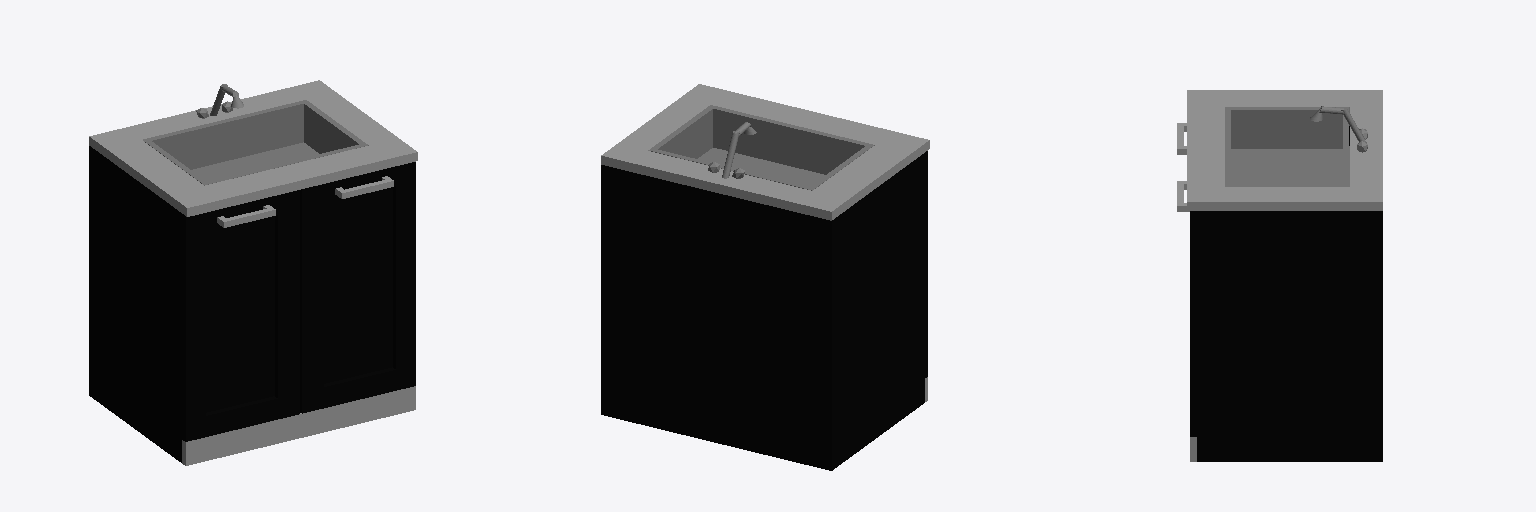
The model's file is cabinetWithBasin.obj.
3 renders of one model, left to right at view 1: azimuth 30°, elevation 25°; view 2: azimuth 150°, elevation 25°; view 3: azimuth 270°, elevation 25°, orthographic.
Parts seen in each view (by area): view 1: Cube_Cube.000, Cube.001_Cube.000, Cube.007, Cube.003_Cube.000, Cube.006_Cube, Cube.002_Cube.000, Cube.005_Cube.000; view 2: Cube.007, Cube_Cube.000, Cube.003_Cube.000, Cube.006_Cube, Cube.001_Cube.000; view 3: Cube.007, Cube.003_Cube.000, Cube_Cube.000, Cube.006_Cube, Cube.001_Cube.000.
Boxes of the visible parts, <box> form: Cube_Cube.000: <box>89,179,392,462</box>; Cube.001_Cube.000: <box>182,162,415,441</box>; Cube.007: <box>89,146,392,421</box>; Cube.003_Cube.000: <box>89,80,417,216</box>; Cube.006_Cube: <box>143,100,368,185</box>; Cube.002_Cube.000: <box>182,386,415,465</box>; Cube.005_Cube.000: <box>227,180,387,226</box>; Cube.007: <box>601,153,924,440</box>; Cube_Cube.000: <box>601,186,924,470</box>; Cube.003_Cube.000: <box>601,84,929,220</box>; Cube.006_Cube: <box>648,105,874,190</box>; Cube.001_Cube.000: <box>925,151,927,377</box>; Cube.007: <box>1197,126,1382,430</box>; Cube.003_Cube.000: <box>1187,90,1382,210</box>; Cube_Cube.000: <box>1197,140,1382,461</box>; Cube.006_Cube: <box>1225,107,1349,186</box>; Cube.001_Cube.000: <box>1190,211,1196,436</box>.
Bounding box in the file's own units: 80 × 99.04 × 62.